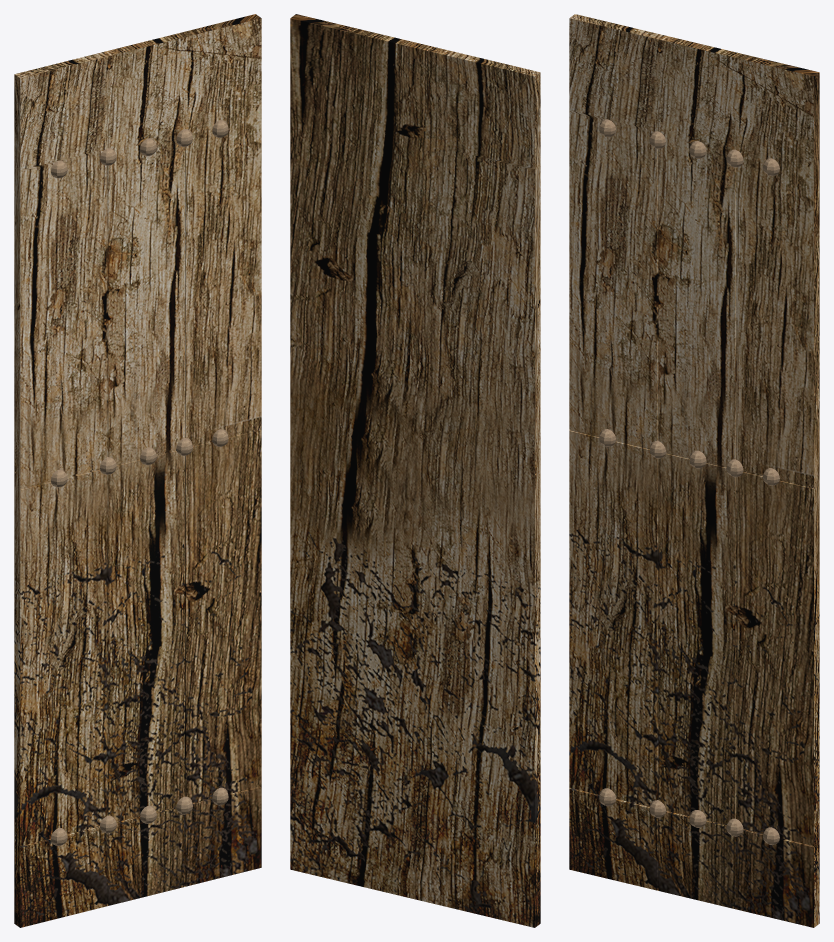
File: PuertaIzquierda.obj
The picture shows the model from 3 angles, left to right: view 1: azimuth 30°, elevation 25°; view 2: azimuth 150°, elevation 25°; view 3: azimuth 330°, elevation 25°; orthographic projection.
Parts seen in each view (by area): view 1: polySurface4_Untitled.059; view 2: polySurface4_Untitled.059; view 3: polySurface4_Untitled.059.
Part boxes in pixels (x1,y1,x2,y2): polySurface4_Untitled.059: [14, 14, 261, 927]; polySurface4_Untitled.059: [290, 14, 540, 927]; polySurface4_Untitled.059: [569, 14, 819, 927].
Bounding box in the file's own units: 0.1855 × 0.6204 × 0.0154.
Materials: 1 (1 with a texture image).
